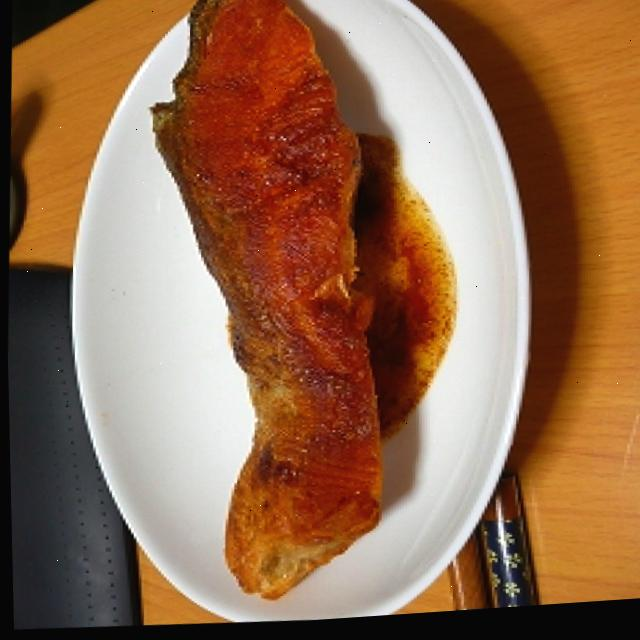熟制海鲜: (103, 0, 464, 633)
